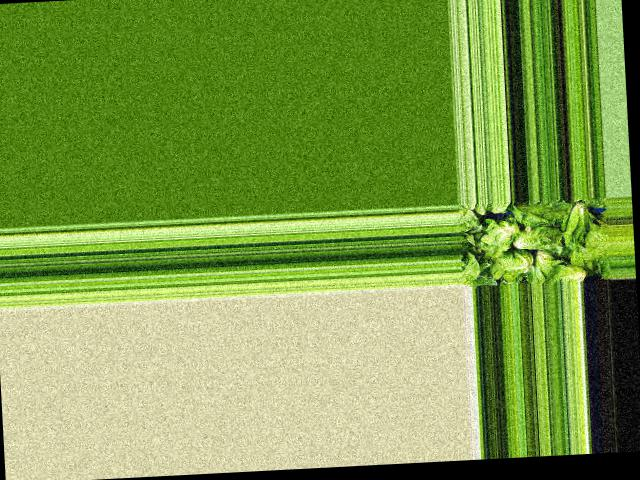lettuce: (543, 261, 593, 282)
